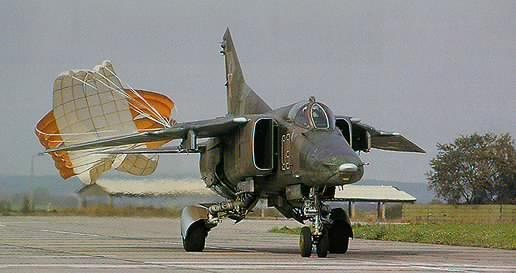airplane: (35, 20, 428, 260)
